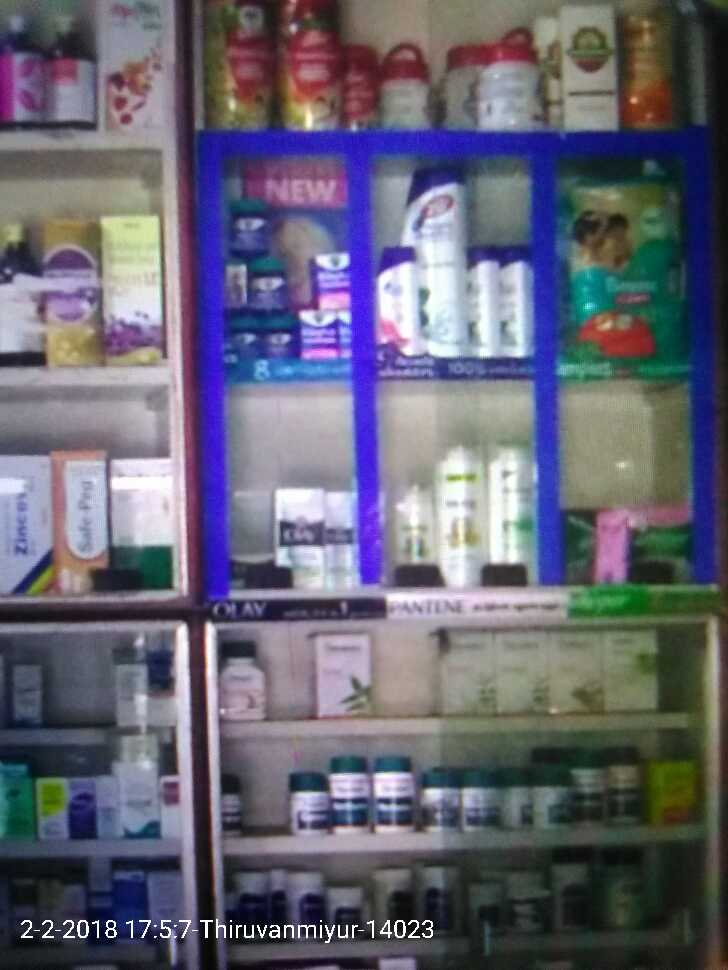vicks: (223, 198, 355, 360)
